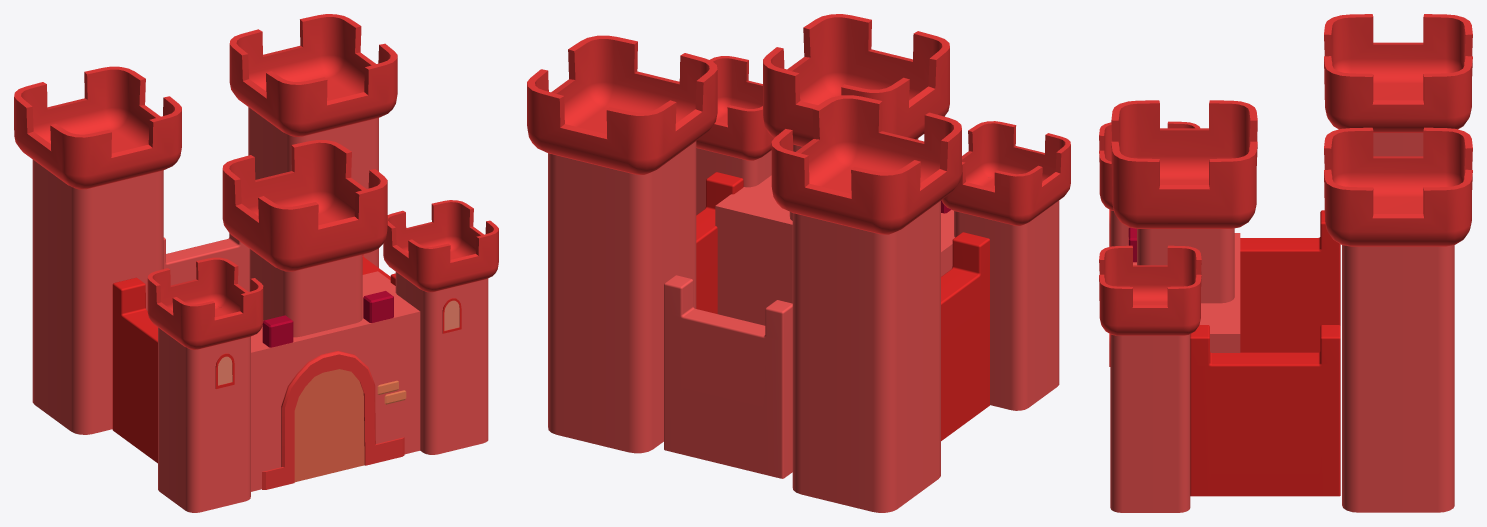
The model's file is Castle_02_Enemy.fbx.
3 views of the same model, side by side, from view 1: azimuth 30°, elevation 25°; view 2: azimuth 150°, elevation 25°; view 3: azimuth 270°, elevation 25° (orthographic). The views are drawn at different scales.
Visible parts, largest first — view 1: Castle_02_Enemy; view 2: Castle_02_Enemy; view 3: Castle_02_Enemy.
Part boxes in pixels (x1=…): Castle_02_Enemy: x1=14, y1=14, x2=498, y2=512; Castle_02_Enemy: x1=527, y1=14, x2=1070, y2=512; Castle_02_Enemy: x1=1099, y1=14, x2=1472, y2=512.
Size of the model in its own units: 217 by 189 by 194.
Materials: 1 (1 with a texture image).
